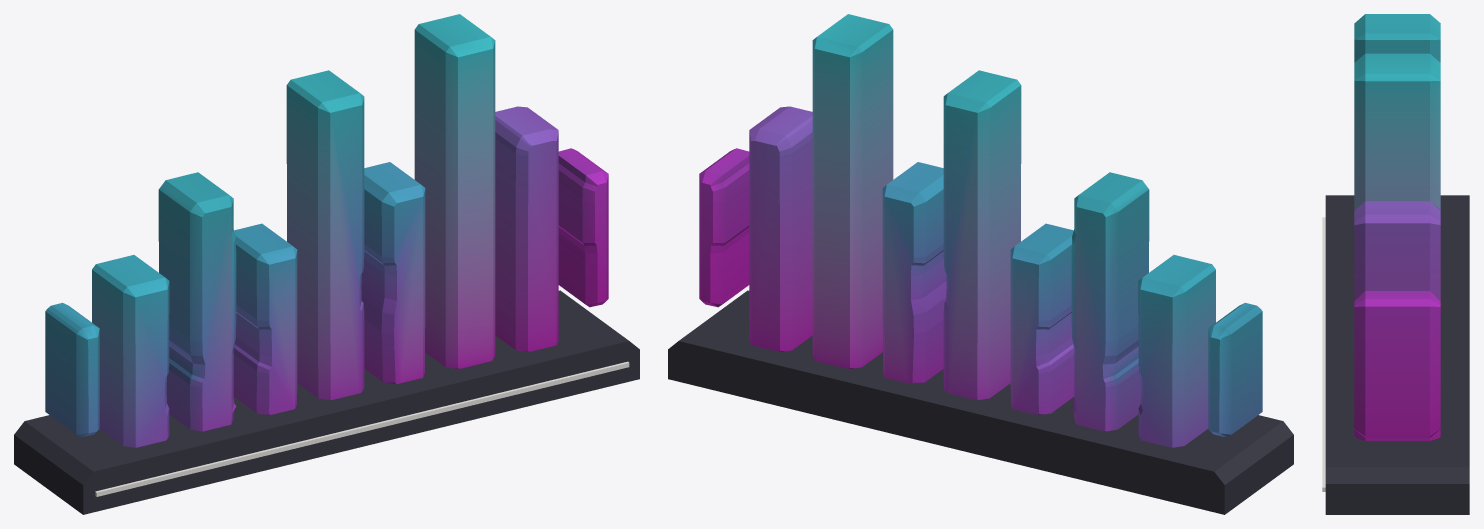
Rendered from 004-auralis.glb.
3 renders of one model, left to right at view 1: azimuth 30°, elevation 25°; view 2: azimuth 150°, elevation 25°; view 3: azimuth 270°, elevation 25°, orthographic. The views are drawn at different scales.
Visible parts, largest first — view 1: 004-bars, foot-block, foot-keyline; view 2: 004-bars, foot-block; view 3: 004-bars, foot-block, foot-keyline.
Boxes of the visible parts, x1,y1,x2,y2 form: 004-bars: [45, 14, 608, 447]; foot-block: [14, 290, 639, 514]; foot-keyline: [95, 361, 629, 496]; 004-bars: [699, 14, 1262, 447]; foot-block: [668, 290, 1293, 514]; 004-bars: [1354, 14, 1440, 440]; foot-block: [1325, 195, 1469, 514]; foot-keyline: [1322, 217, 1325, 491].
Bounding box in the file's own units: 1.86 × 1.15 × 0.409.
